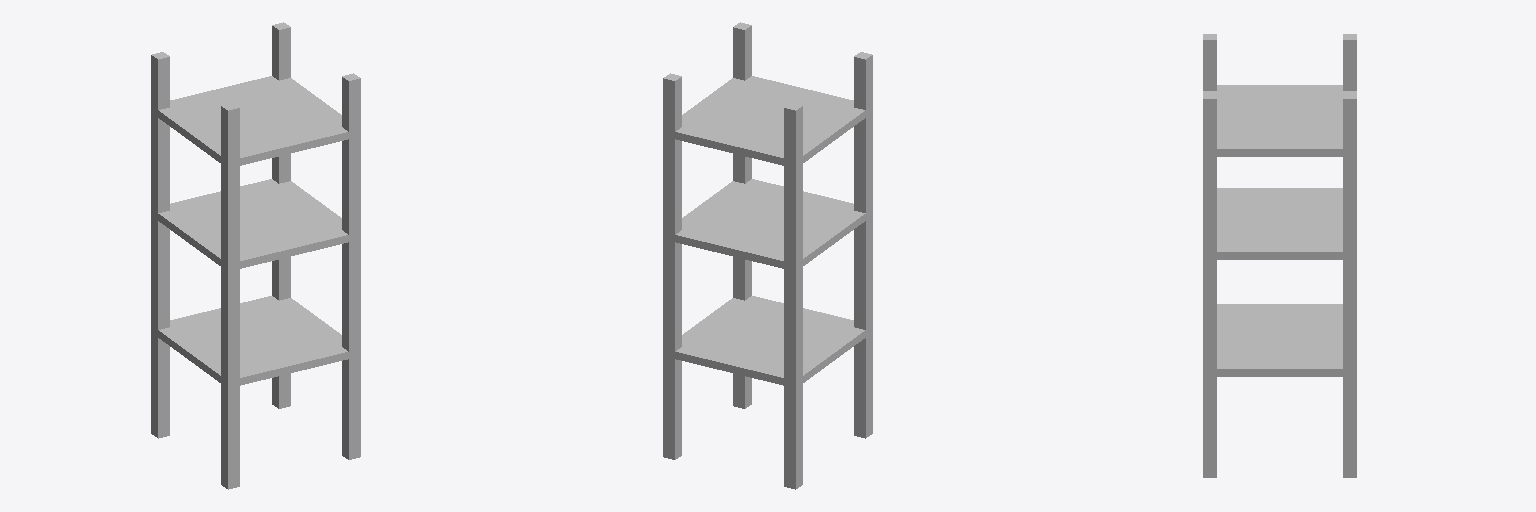
File: regalq.obj
The picture shows the model from 3 angles: view 1: azimuth 30°, elevation 25°; view 2: azimuth 150°, elevation 25°; view 3: azimuth 270°, elevation 25°; orthographic projection.
Parts seen in each view (by area): view 1: Box008, Box006, Box007, Box003, Box004, Box002, Box005; view 2: Box008, Box006, Box007, Box002, Box005, Box003, Box004; view 3: Box006, Box008, Box007, Box005, Box004, Box002, Box003.
Part boxes in pixels (x1,y1,x2,y2): Box008: (151, 76, 359, 167); Box006: (151, 296, 360, 387); Box007: (151, 179, 360, 271); Box003: (221, 103, 239, 489); Box004: (342, 73, 360, 459); Box002: (151, 52, 169, 438); Box005: (272, 22, 290, 408); Box008: (665, 76, 872, 167); Box006: (663, 296, 872, 388); Box007: (665, 179, 872, 271); Box002: (784, 103, 802, 489); Box005: (663, 73, 681, 459); Box003: (854, 52, 872, 438); Box004: (733, 22, 751, 408); Box006: (1203, 304, 1356, 376); Box008: (1203, 85, 1356, 156); Box007: (1203, 188, 1356, 259); Box005: (1343, 93, 1356, 477); Box004: (1203, 93, 1216, 477); Box002: (1343, 34, 1356, 90); Box003: (1203, 34, 1216, 90).
Size of the model in its own units: 21.65 by 59.06 by 21.65.